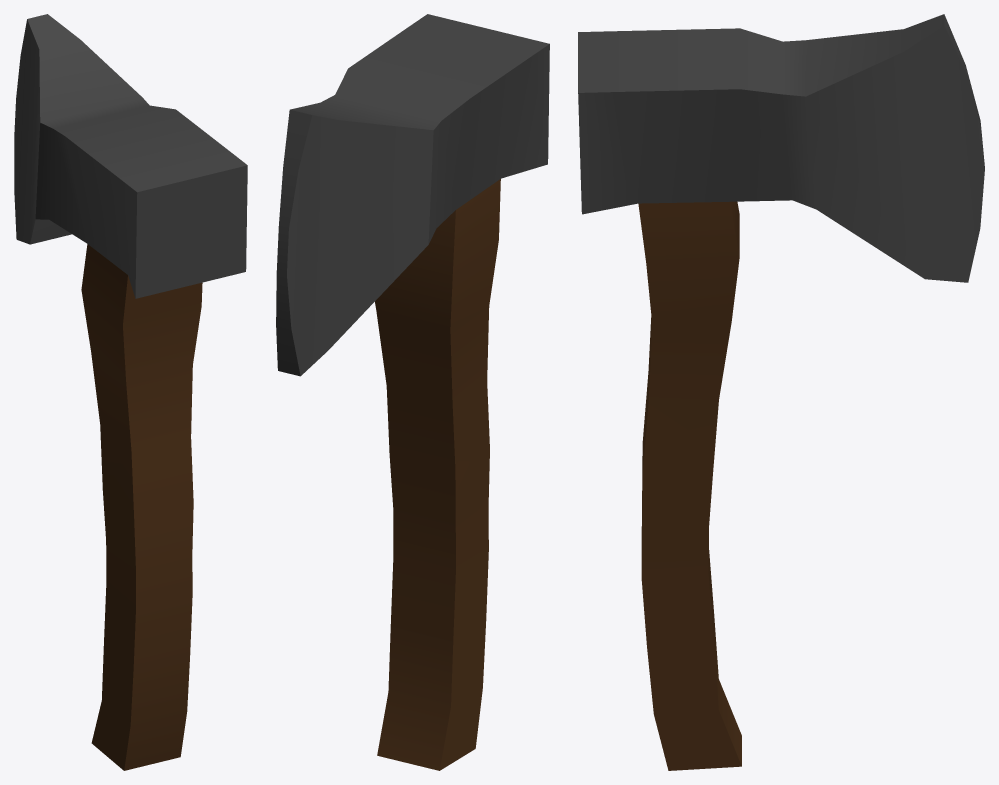
File: Hacthet.fbx
3 views of the same model, side by side, from view 1: azimuth 30°, elevation 25°; view 2: azimuth 150°, elevation 25°; view 3: azimuth 270°, elevation 25° (orthographic). The views are drawn at different scales.
Visible parts, largest first — view 1: Cube; view 2: Cube; view 3: Cube.
Part boxes in pixels (left/top/right/bottom): Cube: left=14, top=14, right=247, bottom=770; Cube: left=276, top=14, right=549, bottom=770; Cube: left=578, top=14, right=984, bottom=770.
Bounding box in the file's own units: 76.49 × 434 × 216.
